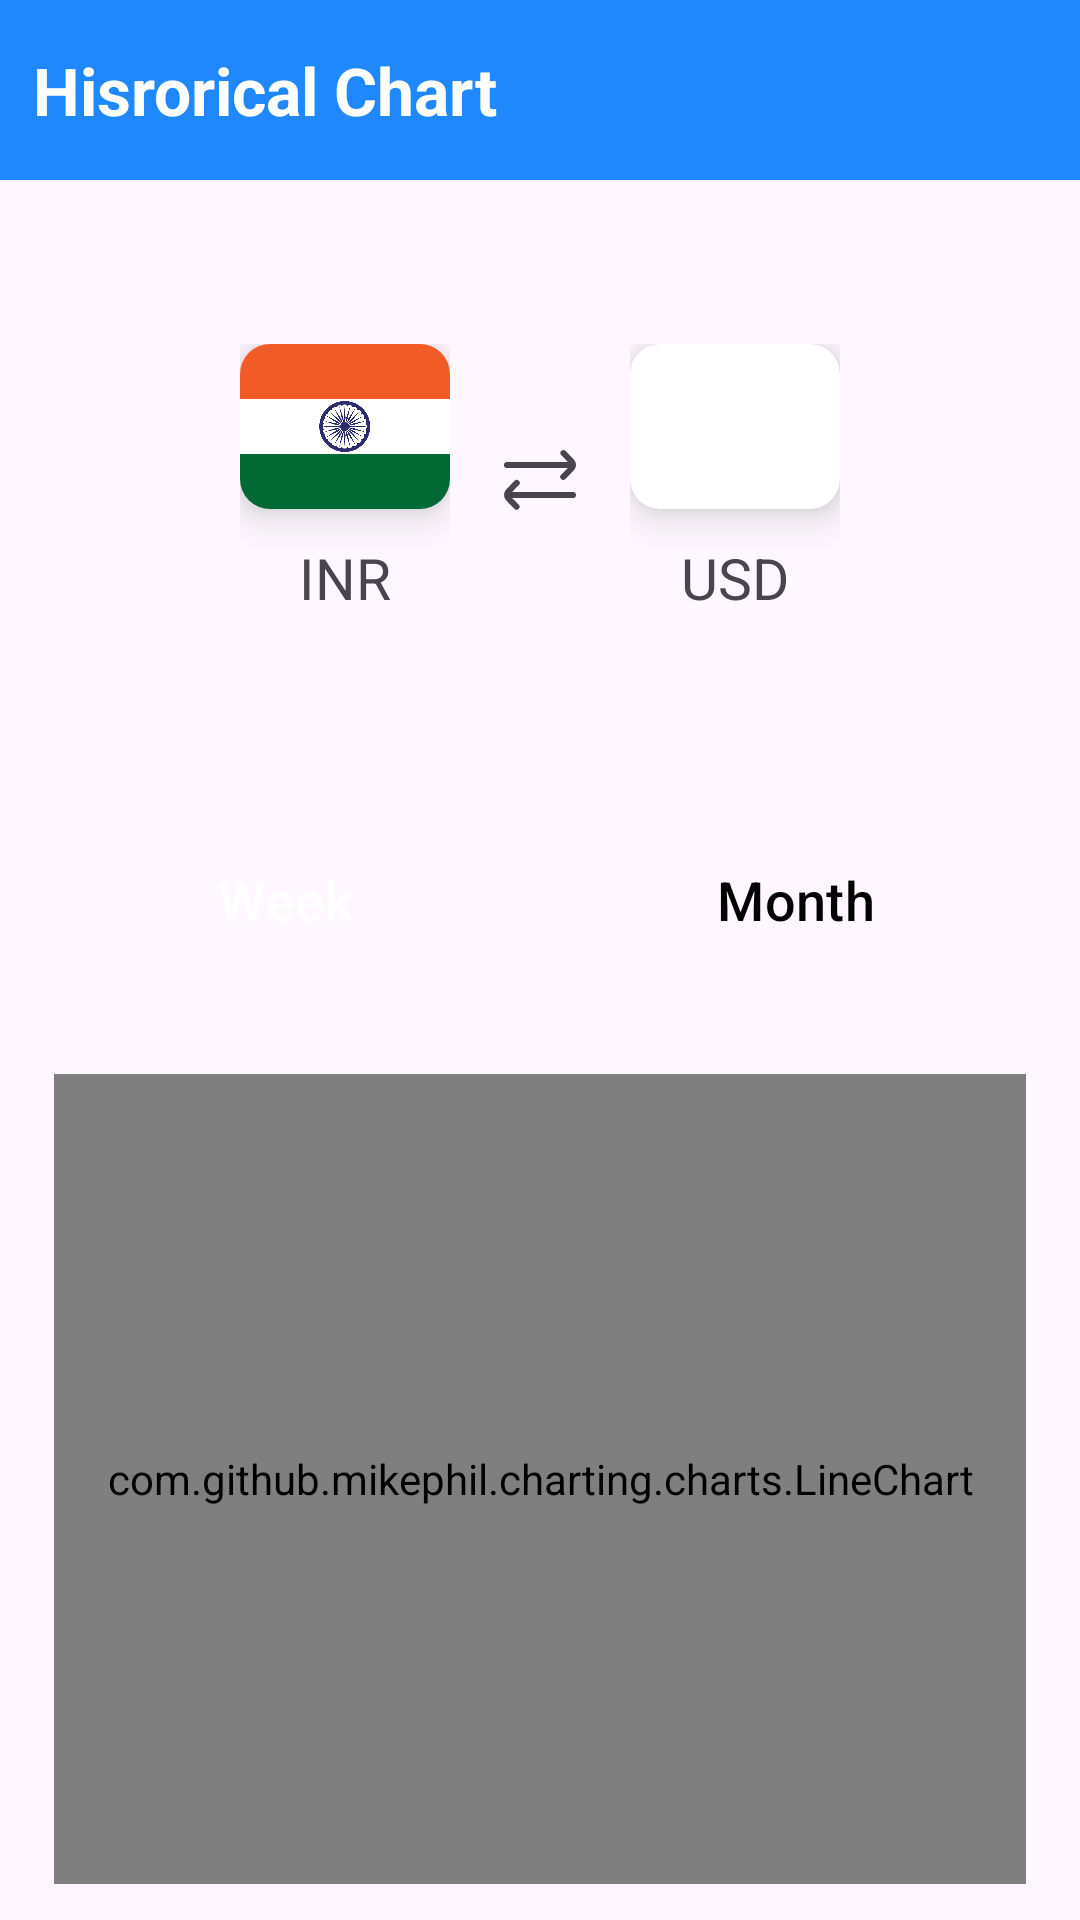

Icons on this 1080w x 1920h Android screen, each with its box as box(x1, y1, x2, y2):
exchange arrow: box(504, 450, 576, 510)
flag of india: box(240, 344, 450, 509)
